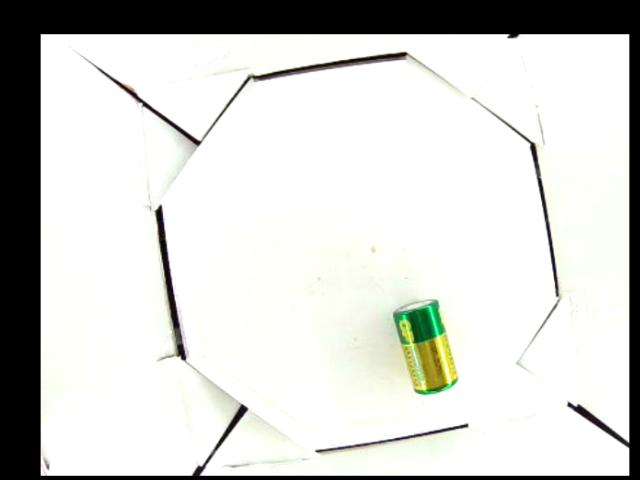Battery: (392, 298, 460, 394)
